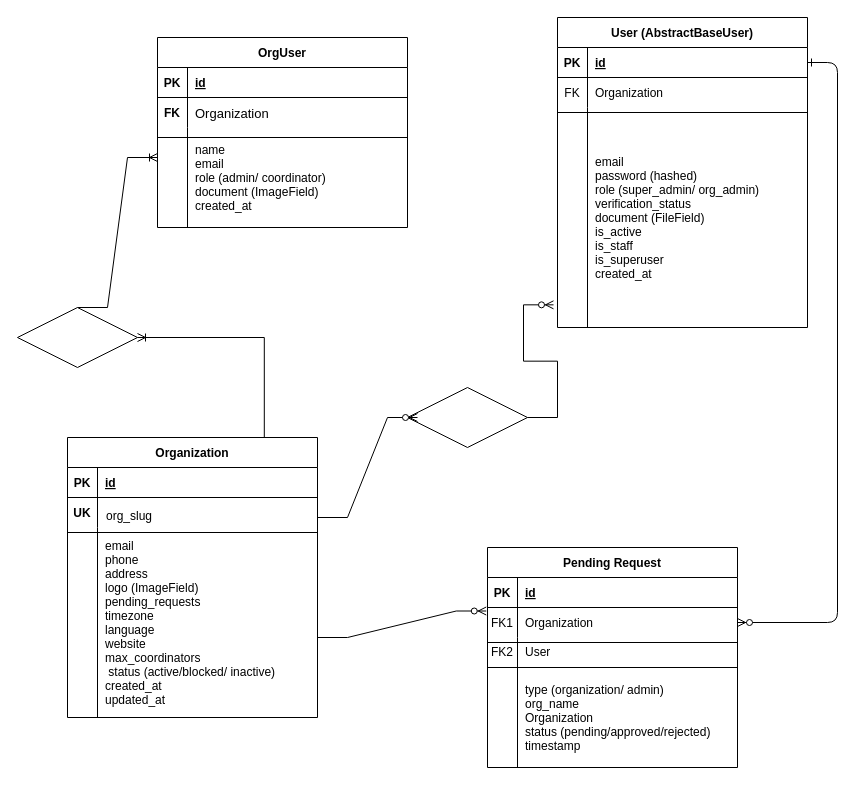
This 864x785 diagram has some shape labels left out. The shapes that lost their labels are listed below. From the top down, each one's centre as x and y in pixels, then its label:
At [77,337]: "belongs to".
At [467,417]: "has".
